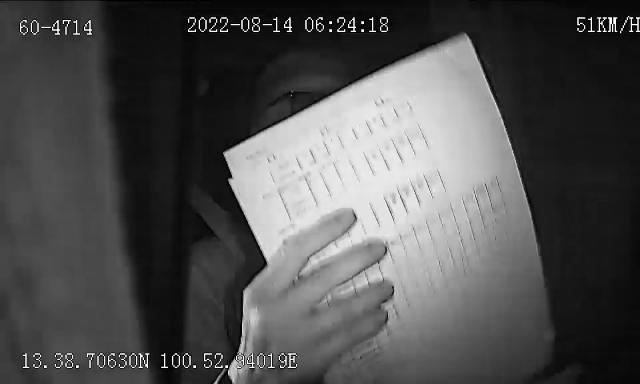Seatbelt: (197, 194, 250, 274)
